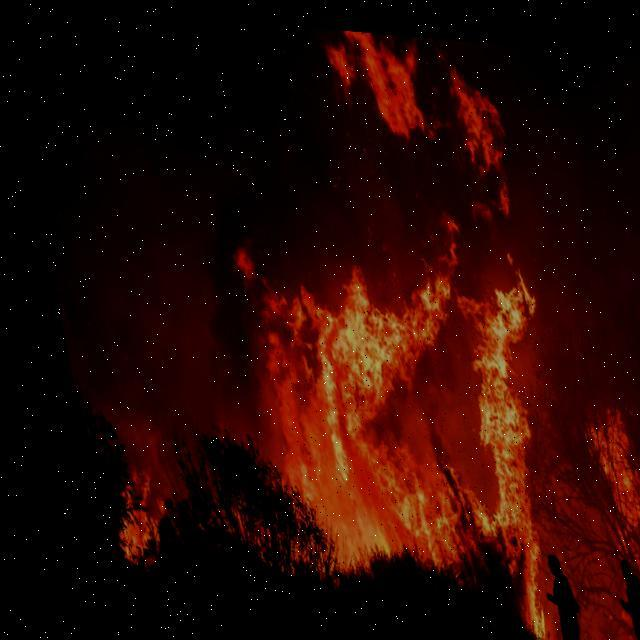Fire: (185, 32, 639, 639)
